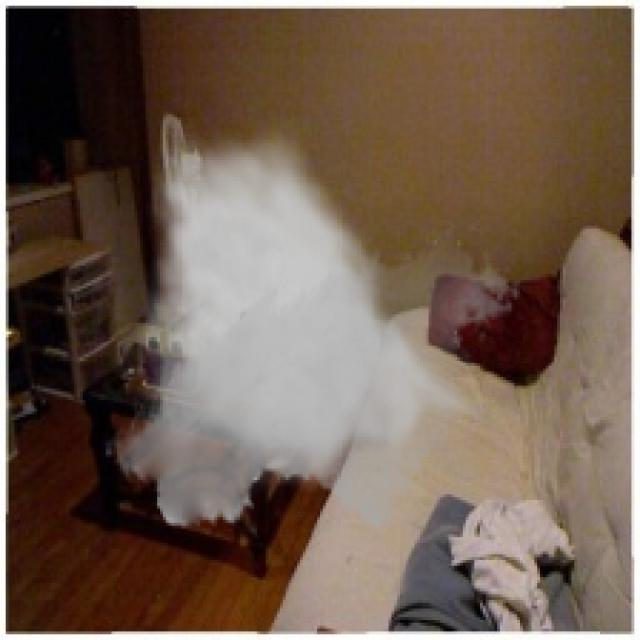smoke: (103, 117, 523, 540)
